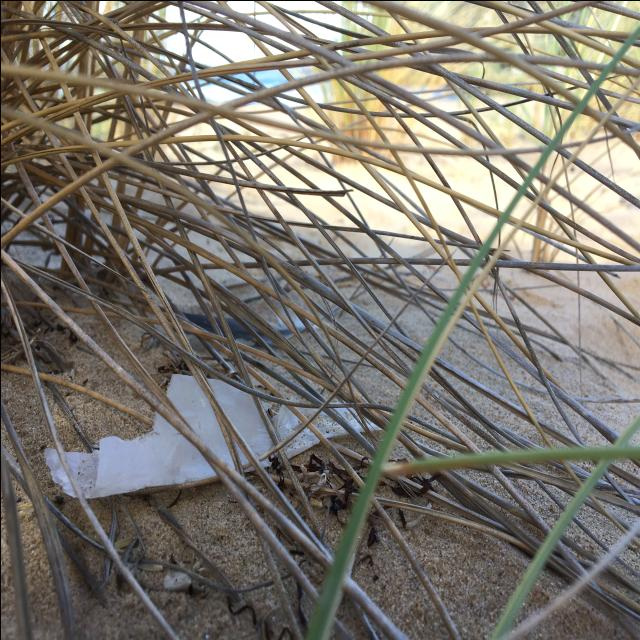Plastic film: (43, 373, 382, 497)
